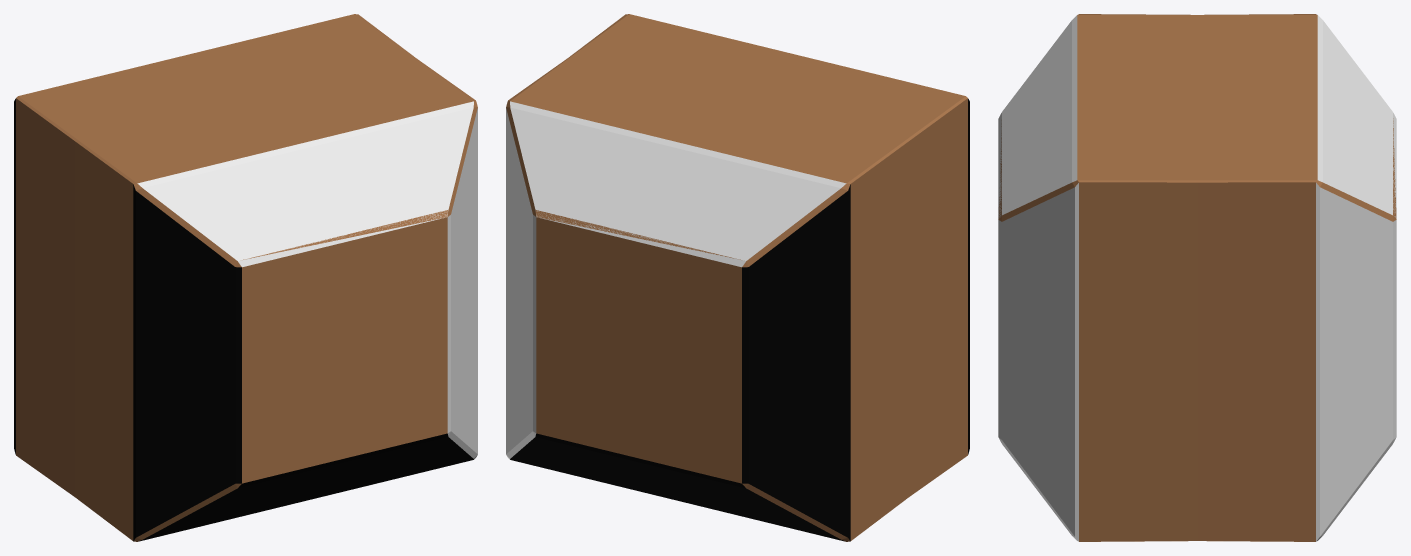
Rendered from rusty_block.fbx.
3 renders of one model, left to right at view 1: azimuth 30°, elevation 25°; view 2: azimuth 150°, elevation 25°; view 3: azimuth 270°, elevation 25°, orthographic.
Parts seen in each view (by area): view 1: Cube; view 2: Cube; view 3: Cube.
Boxes of the visible parts, x1,y1,x2,y2 form: Cube: (14, 14, 477, 541); Cube: (506, 14, 969, 541); Cube: (998, 14, 1396, 541).
Bounding box in the file's own units: 256 × 256 × 256.
